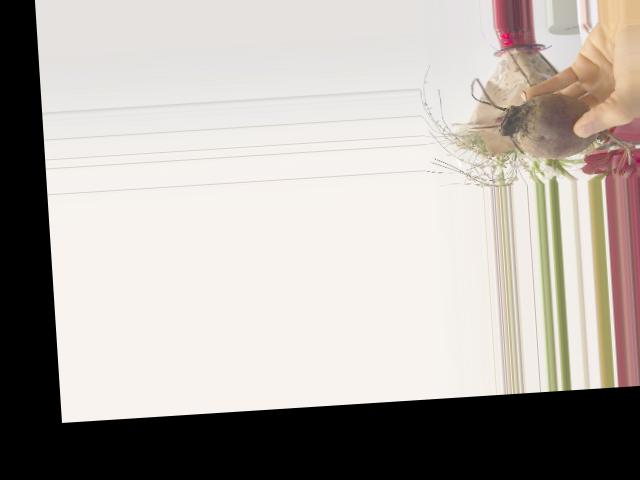beet: (469, 68, 630, 173)
